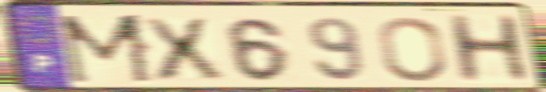6: (223, 16, 291, 84)
9: (306, 16, 366, 83)
H: (442, 13, 535, 86)
M: (55, 12, 158, 87)
O: (375, 15, 450, 84)
X: (137, 16, 229, 83)
